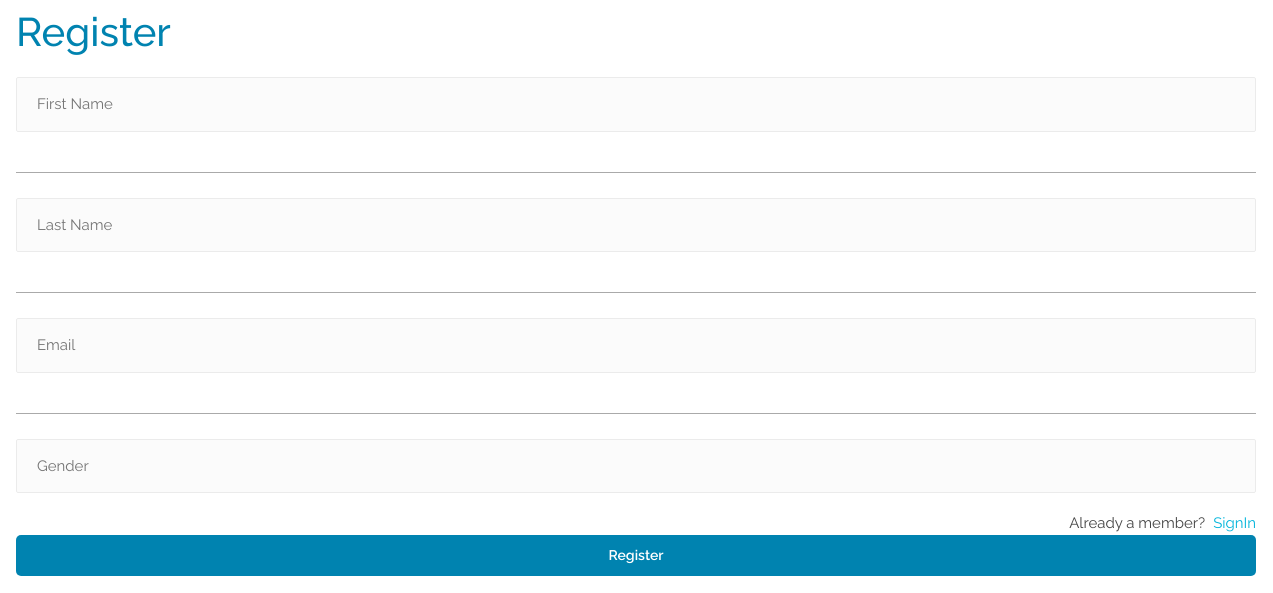
it: Registration Form › should display error messages for required fields
Click the button with test id "register-button". click: (636, 555)
box: [16,534,1256,576]
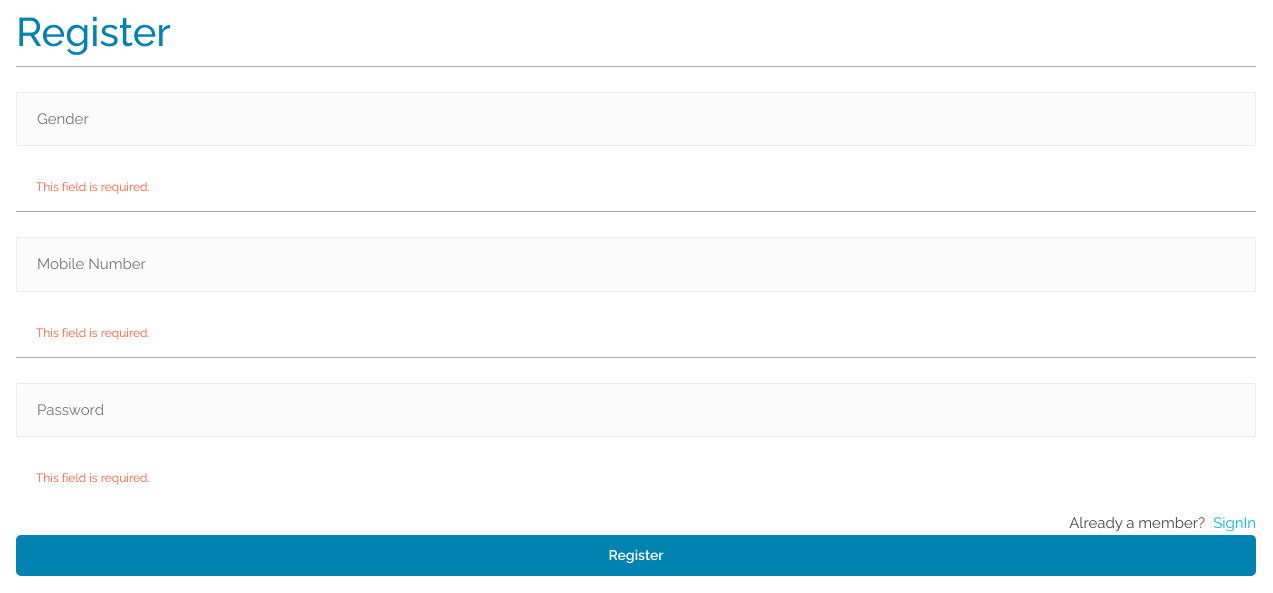
Expected: the text with test id "passwordError" shows "required", [36,471,150,485]
